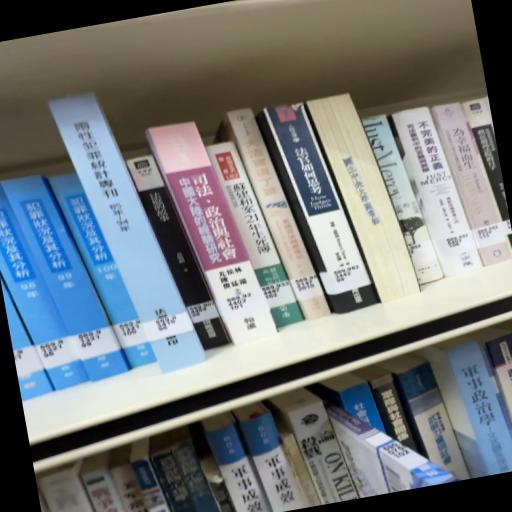backward: (306, 94, 420, 303)
book: (46, 80, 204, 384), (147, 111, 284, 355), (259, 95, 385, 325), (215, 99, 333, 336), (304, 89, 422, 316), (392, 106, 485, 286), (383, 356, 465, 491)
